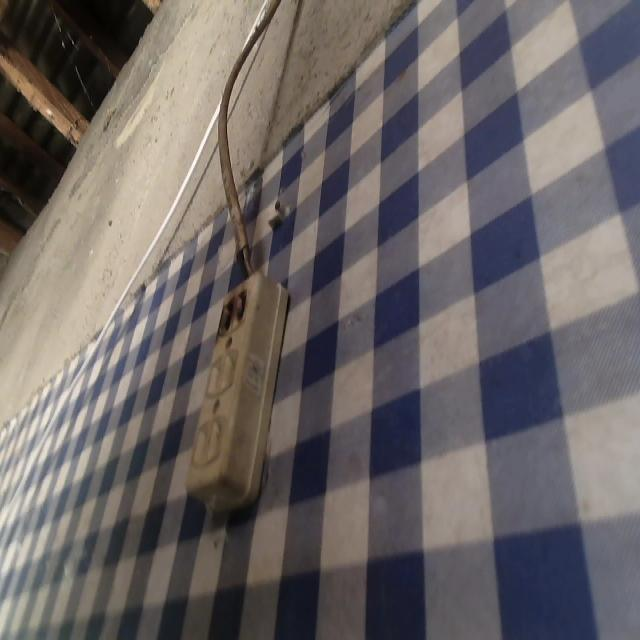-: (211, 290, 252, 330)
